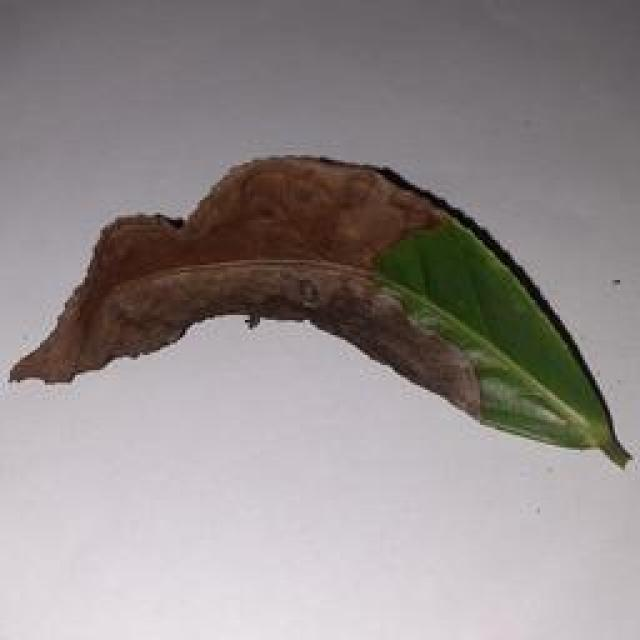Brown Blight: (0, 140, 638, 478)
